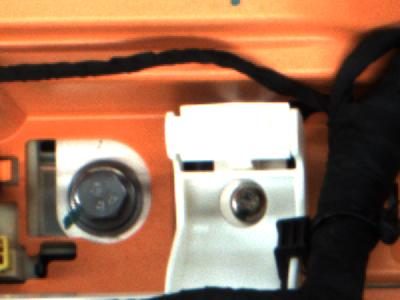nut_b: (67, 161, 146, 238)
screw_m: (219, 182, 273, 227)
